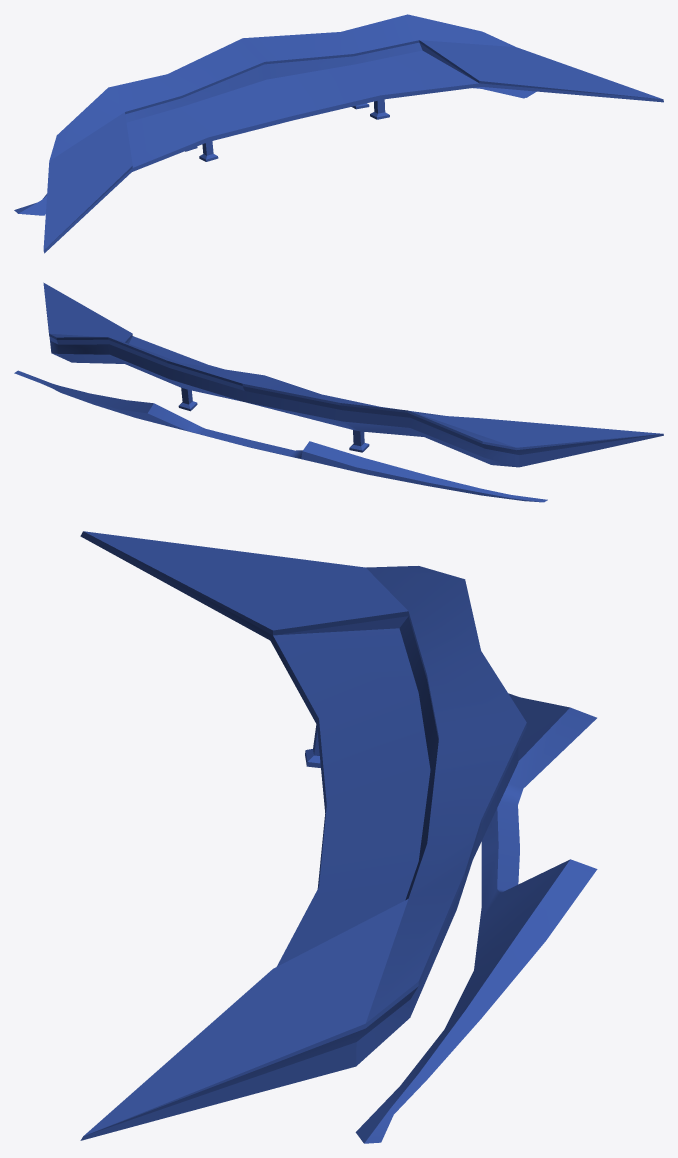
Rendered from Gran_Spo1.1-2.1.fbx.
The picture shows the model from 3 angles, top to bottom: view 1: azimuth 30°, elevation 25°; view 2: azimuth 150°, elevation 25°; view 3: azimuth 270°, elevation 25°; orthographic projection. The views are drawn at different scales.
Parts seen in each view (by area): view 1: Gran_Spoiler2_1, Gran_Spoiler1_1; view 2: Gran_Spoiler2_1, Gran_Spoiler1_1; view 3: Gran_Spoiler2_1, Gran_Spoiler1_1.
Boxes of the visible parts, x1=… form: Gran_Spoiler2_1: x1=43, y1=14, x2=663, y2=253; Gran_Spoiler1_1: x1=14, y1=87, x2=536, y2=215; Gran_Spoiler2_1: x1=43, y1=282, x2=663, y2=467; Gran_Spoiler1_1: x1=14, y1=370, x2=547, y2=502; Gran_Spoiler2_1: x1=80, y1=531, x2=526, y2=1140; Gran_Spoiler1_1: x1=355, y1=693, x2=597, y2=1143.
Bounding box in the file's own units: 134 × 18.35 × 48.39.
